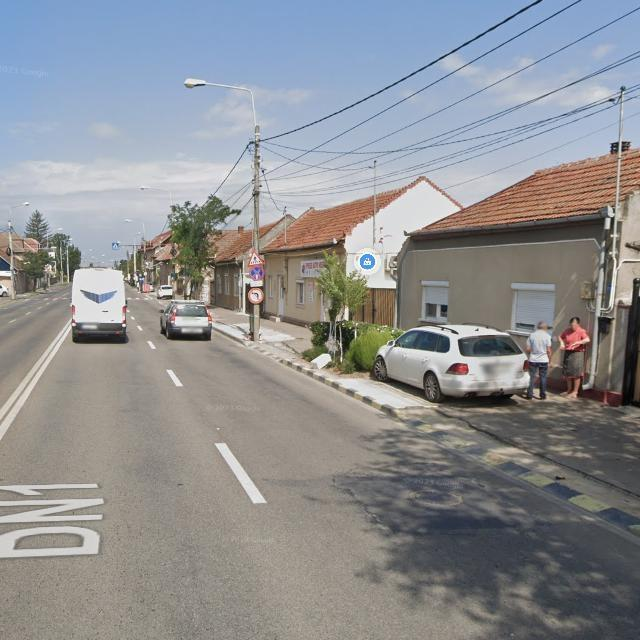forb_waiting: (250, 266, 264, 281)
warn_crosswalk: (247, 250, 265, 266)
